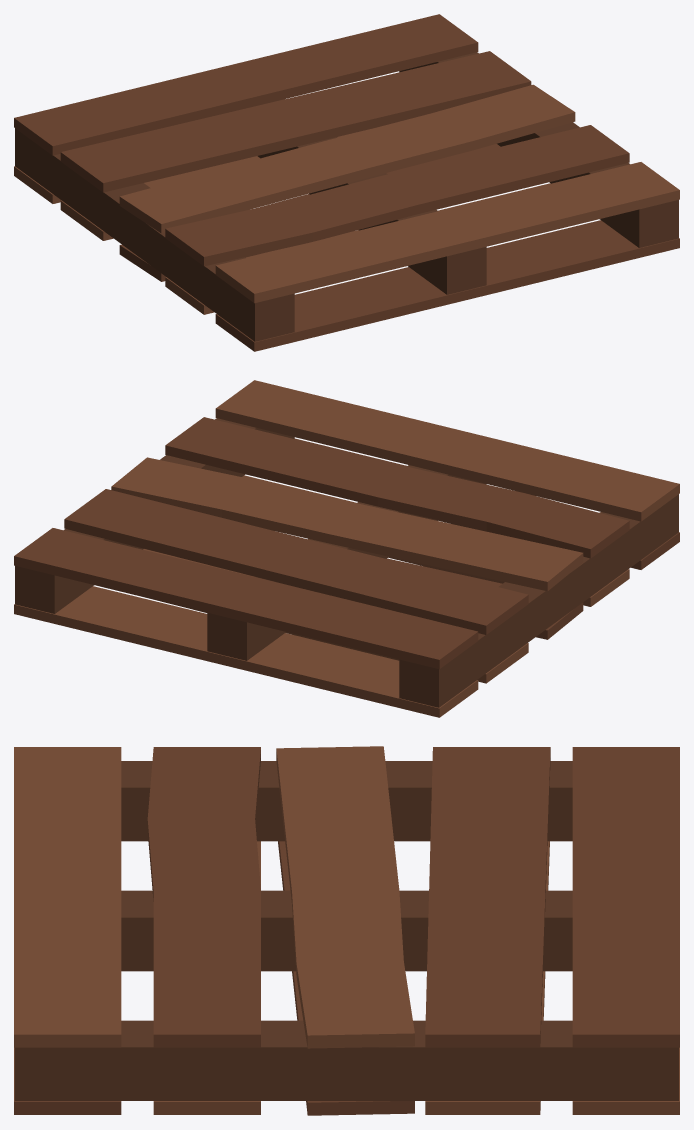
The model's file is Pallet_01.fbx.
The picture shows the model from 3 angles, top to bottom: view 1: azimuth 30°, elevation 25°; view 2: azimuth 150°, elevation 25°; view 3: azimuth 270°, elevation 25°; orthographic projection. The views are drawn at different scales.
Parts seen in each view (by area): view 1: Pallet_01; view 2: Pallet_01; view 3: Pallet_01.
Part boxes in pixels (bbox=[...]): Pallet_01: bbox=[14, 14, 679, 351]; Pallet_01: bbox=[14, 380, 679, 717]; Pallet_01: bbox=[14, 746, 679, 1115].
Bounding box in the file's own units: 121 × 15.68 × 118.
